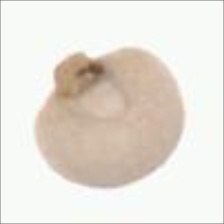L5: (49, 48, 112, 100), (71, 74, 133, 123), (135, 144, 175, 182)
L6: (32, 45, 187, 190)
